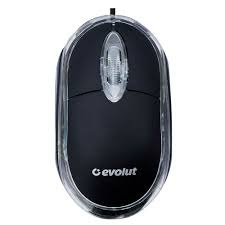mouse: (53, 11, 176, 223)
